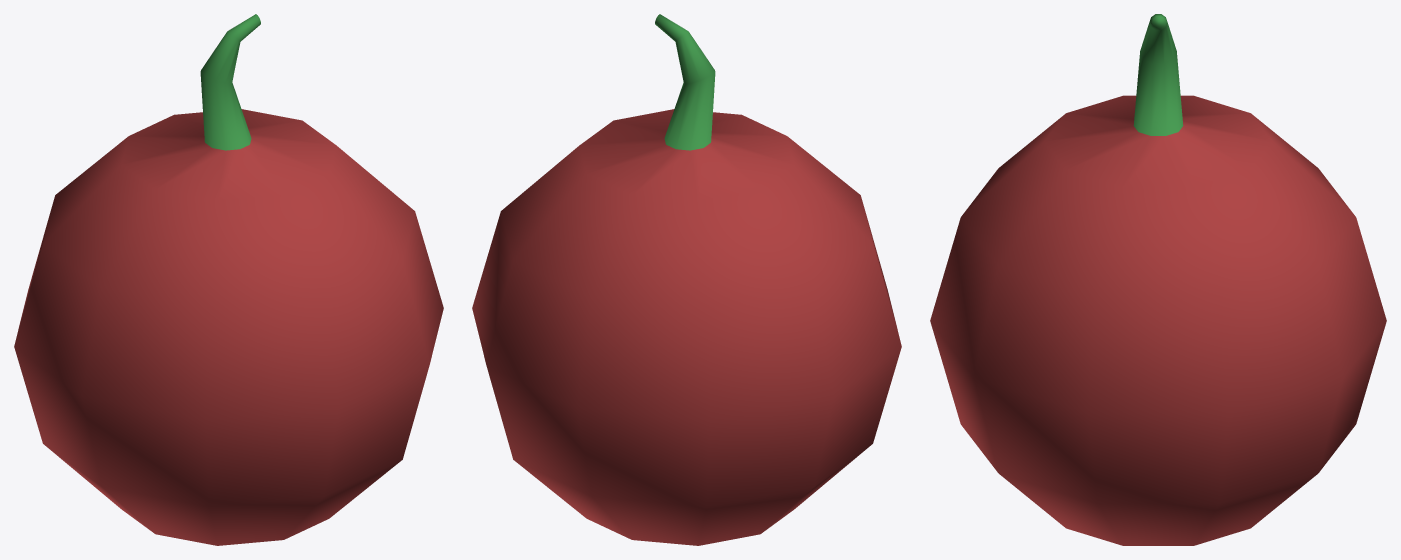
The model's file is BerryPickUp.fbx.
3 views of the same model, side by side, from view 1: azimuth 30°, elevation 25°; view 2: azimuth 150°, elevation 25°; view 3: azimuth 270°, elevation 25° (orthographic). The views are drawn at different scales.
Visible parts, largest first — view 1: Berry1; view 2: Berry1; view 3: Berry1.
Boxes of the visible parts, x1,y1,x2,y2 form: Berry1: (14,14,443,545); Berry1: (472,14,901,545); Berry1: (930,14,1386,545).
Size of the model in its own units: 1.24 by 1.66 by 1.31.
